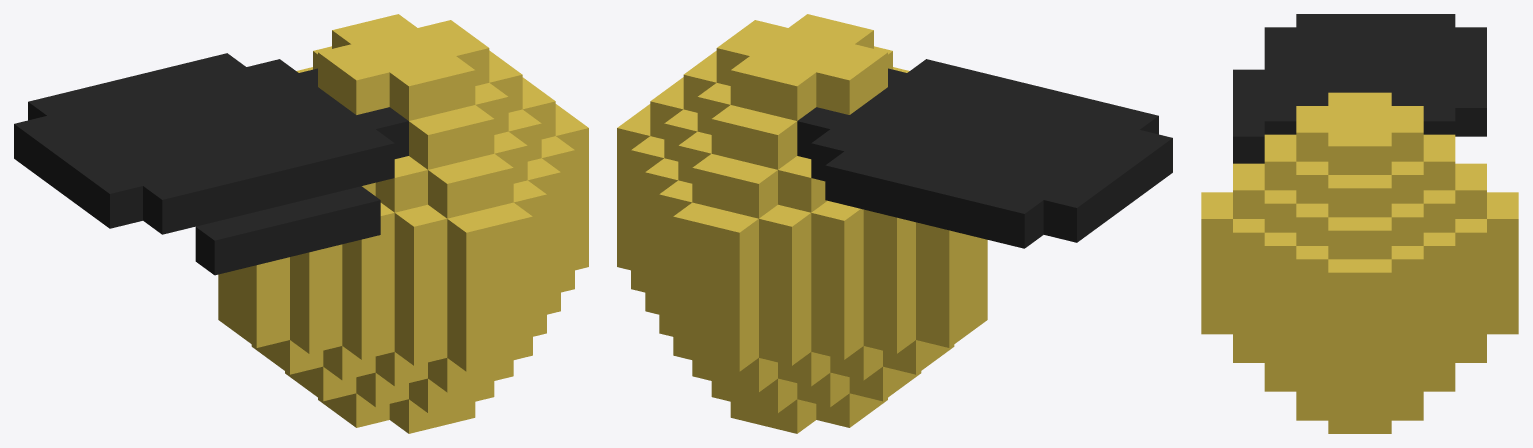
The model's file is speed_mecha-2.obj.
3 views of the same model, side by side, from view 1: azimuth 30°, elevation 25°; view 2: azimuth 150°, elevation 25°; view 3: azimuth 270°, elevation 25° (orthographic). The views are drawn at different scales.
Parts seen in each view (by area): view 1: speed_mecha-2; view 2: speed_mecha-2; view 3: speed_mecha-2.
Boxes of the visible parts, x1,y1,x2,y2 form: speed_mecha-2: (14, 14, 588, 433); speed_mecha-2: (617, 14, 1172, 433); speed_mecha-2: (1201, 14, 1518, 433).
Size of the model in its own units: 15 by 10 by 10.
1 material, 1 textured.
